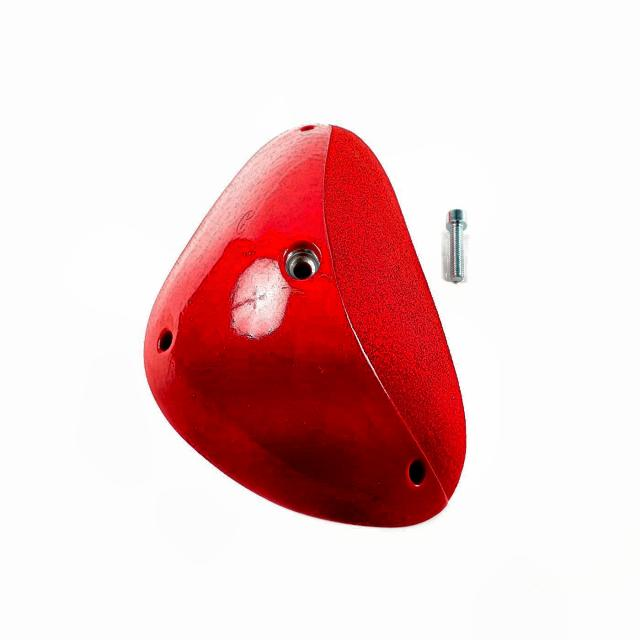Hold: (133, 117, 477, 535)
